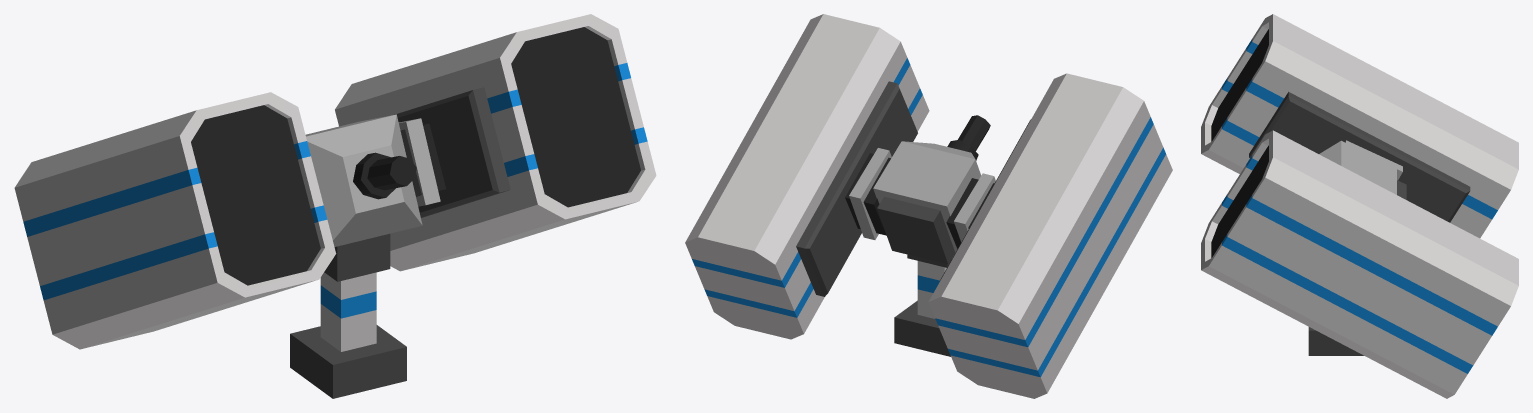
Rendered from Missile.fbx.
3 renders of one model, left to right at view 1: azimuth 30°, elevation 25°; view 2: azimuth 150°, elevation 25°; view 3: azimuth 270°, elevation 25°, orthographic. The views are drawn at different scales.
Visible parts, largest first — view 1: Gun1, Gun, Base, CL, Aim, L; view 2: Gun1, Gun, CL, Plug, Base, L, L1, Aim; view 3: Gun, Gun1, CL, Base.
Part boxes in pixels (x1,y1,x2,y2): Gun1: (14, 92, 336, 349); Gun: (335, 14, 656, 271); Base: (290, 233, 406, 398); CL: (305, 114, 422, 246); Aim: (353, 152, 416, 199); L: (398, 118, 440, 206); Gun1: (928, 73, 1172, 398); Gun: (685, 14, 929, 339); CL: (873, 141, 981, 258); Plug: (877, 196, 955, 264); Base: (894, 254, 951, 356); L: (849, 148, 891, 239); L1: (954, 173, 995, 242); Aim: (947, 115, 990, 160); Gun: (1201, 130, 1518, 398); Gun1: (1201, 14, 1518, 238); CL: (1319, 140, 1396, 194); Base: (1308, 327, 1363, 355).
Size of the model in its own units: 5.91 by 4.45 by 4.99.
